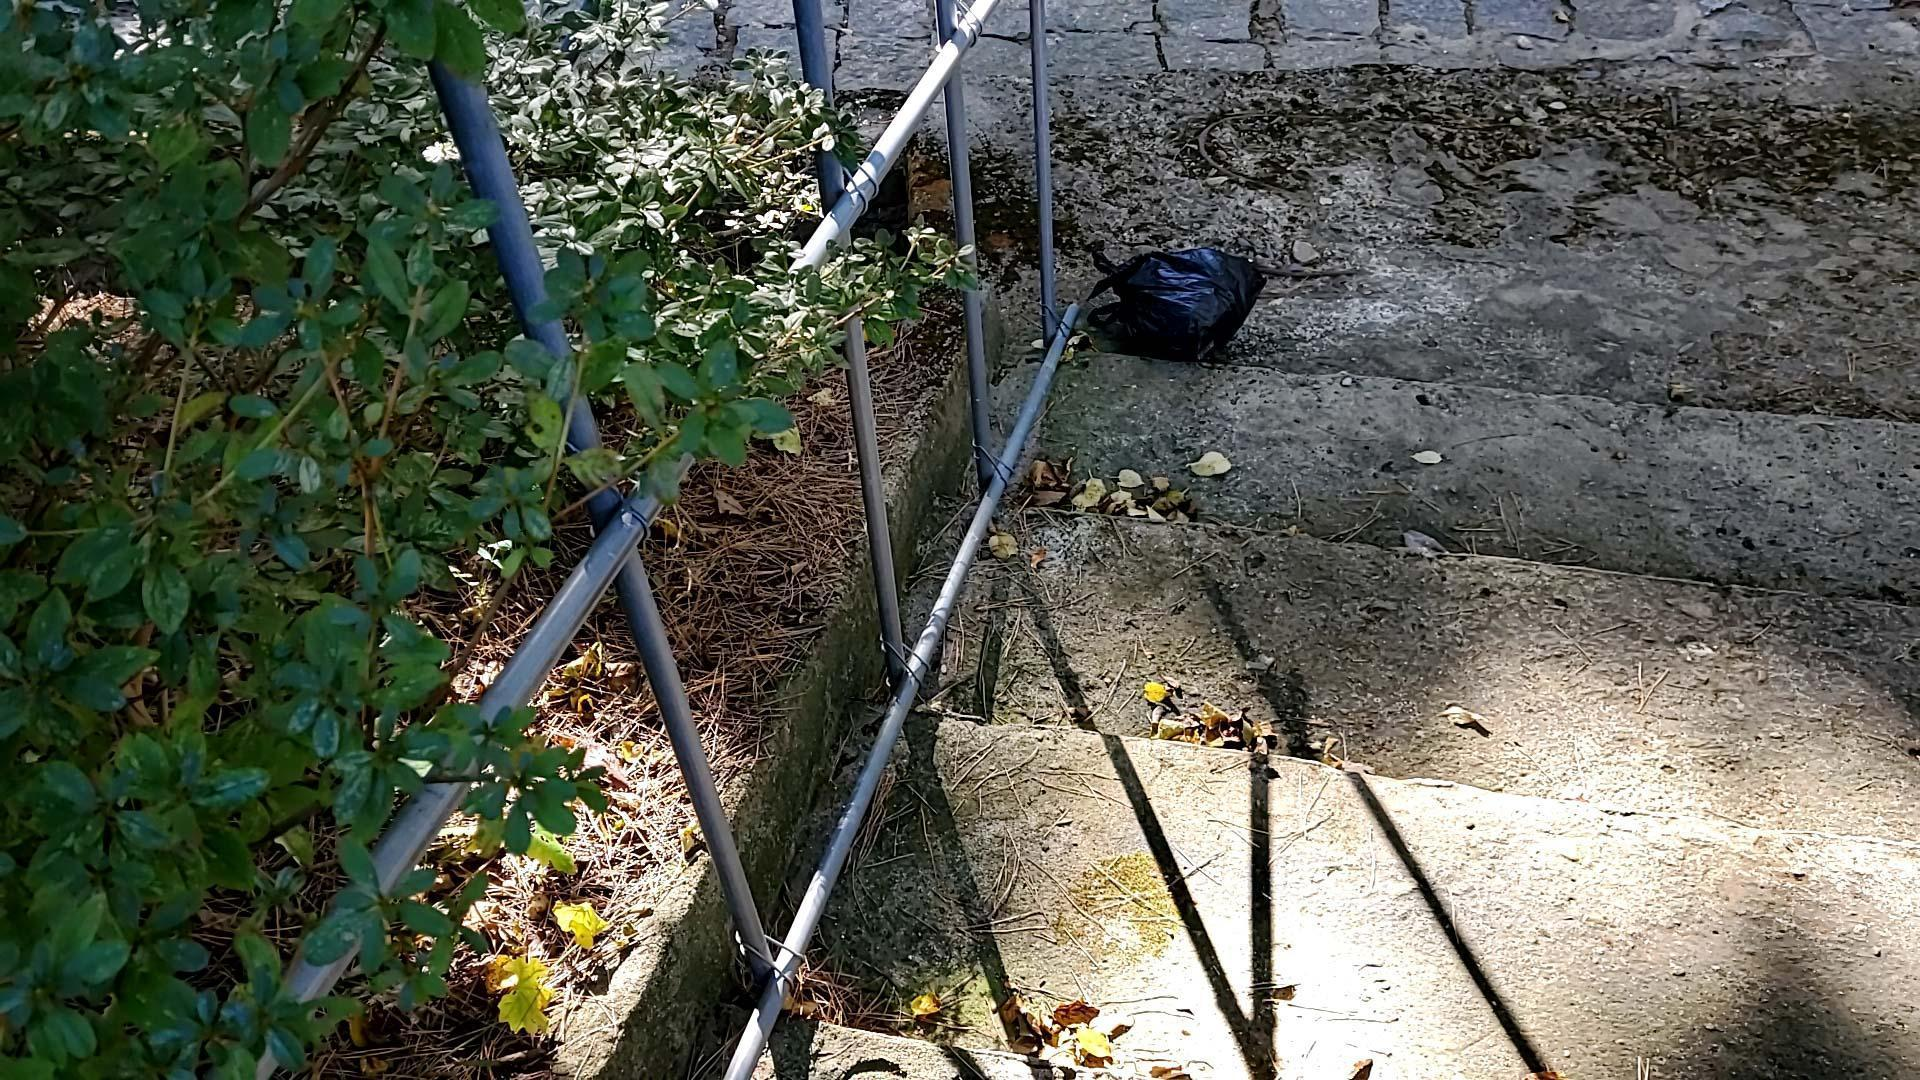black_bag: (1075, 225, 1276, 377)
